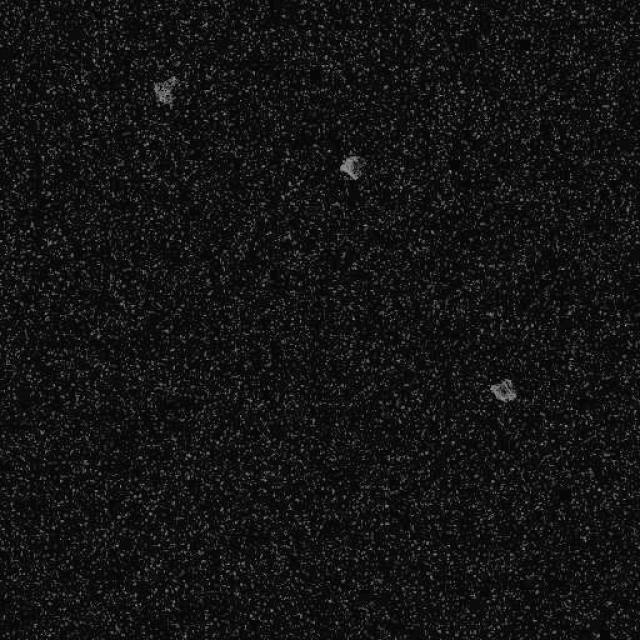D2: (152, 74, 178, 108), (488, 376, 518, 404), (338, 154, 367, 181)
